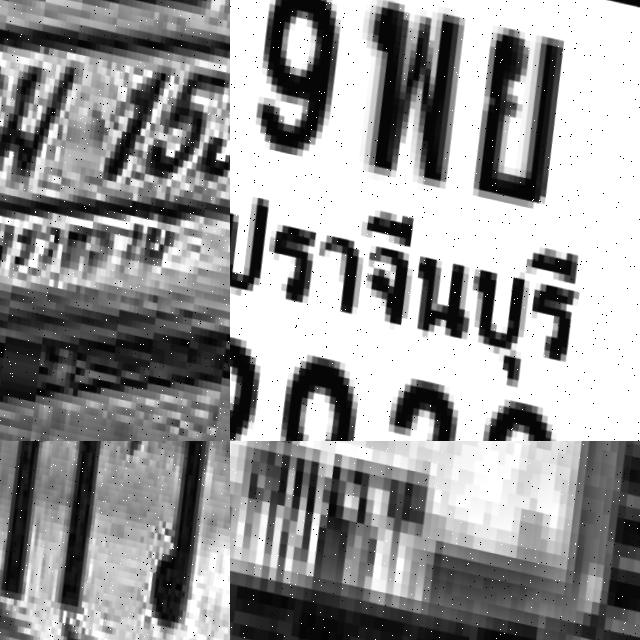license-plate: (230, 0, 640, 441), (0, 0, 230, 441), (230, 441, 640, 640), (0, 441, 230, 640)
